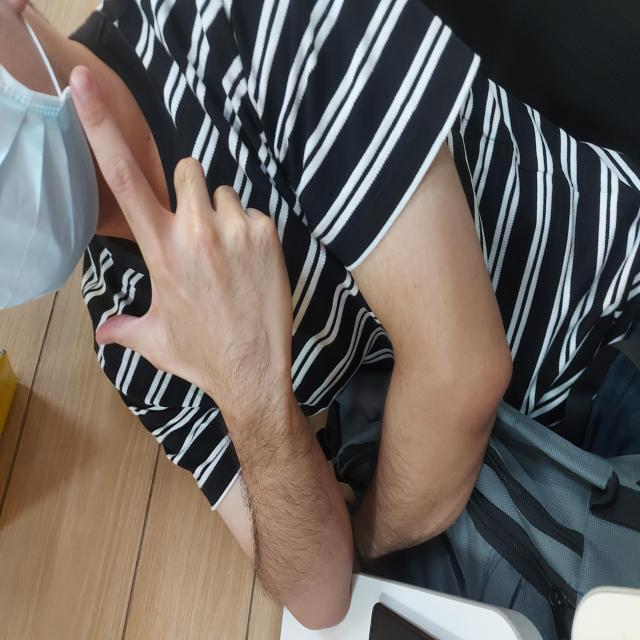G: (240, 68, 576, 295)
